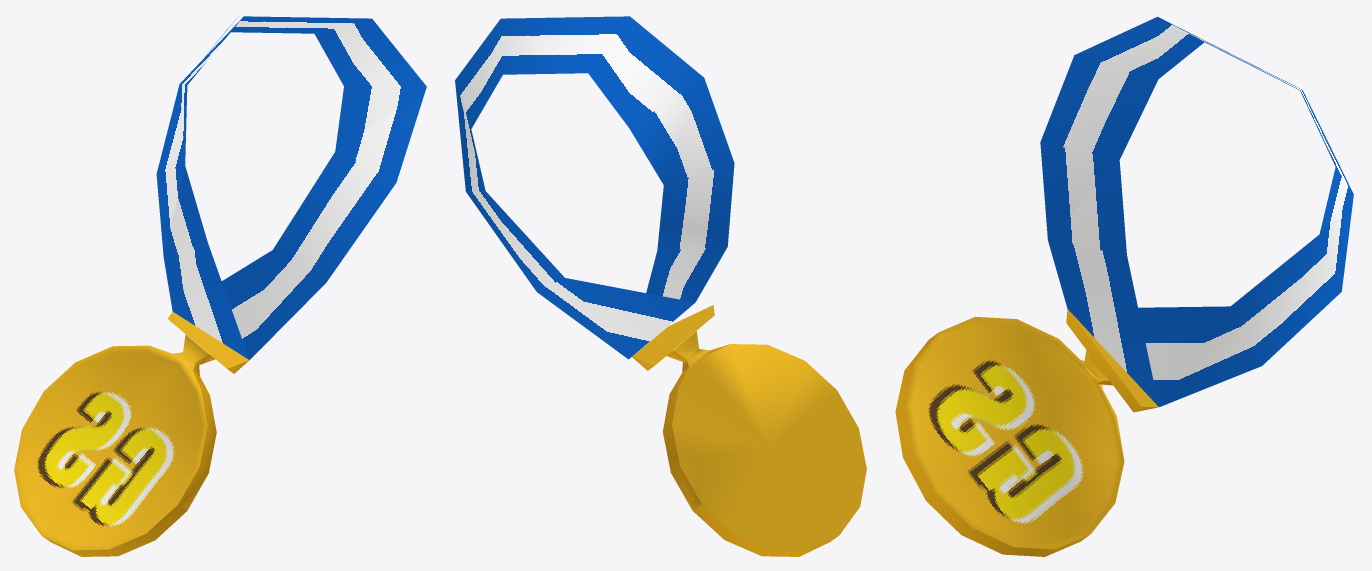
Rendered from ps2_save-icons_greateststriker.glb.
3 renders of one model, left to right at view 1: azimuth 30°, elevation 25°; view 2: azimuth 150°, elevation 25°; view 3: azimuth 330°, elevation 25°, orthographic. The views are drawn at different scales.
Parts seen in each view (by area): view 1: icon0.ico; view 2: icon0.ico; view 3: icon0.ico.
Part boxes in pixels (x1=…): icon0.ico: x1=14, y1=16, x2=426, y2=556; icon0.ico: x1=455, y1=16, x2=866, y2=556; icon0.ico: x1=895, y1=16, x2=1353, y2=556.
Size of the model in its own units: 3.53 by 4.2 by 0.6089.
1 material, 1 textured.
